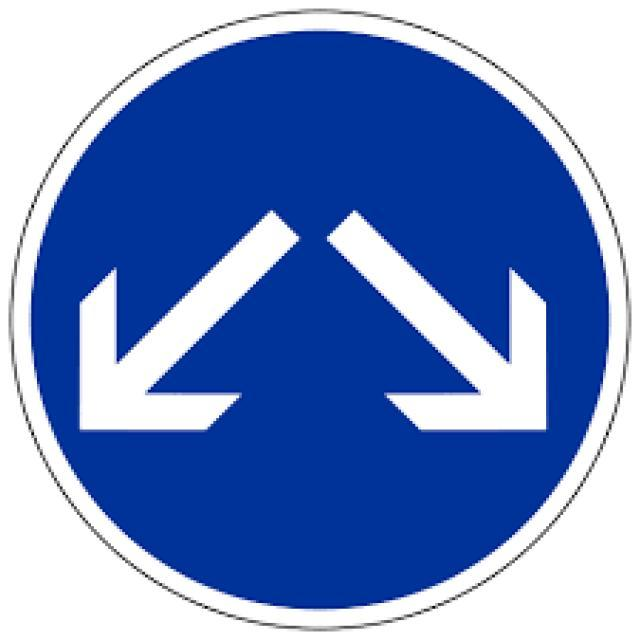pass either side: (26, 24, 616, 609)
